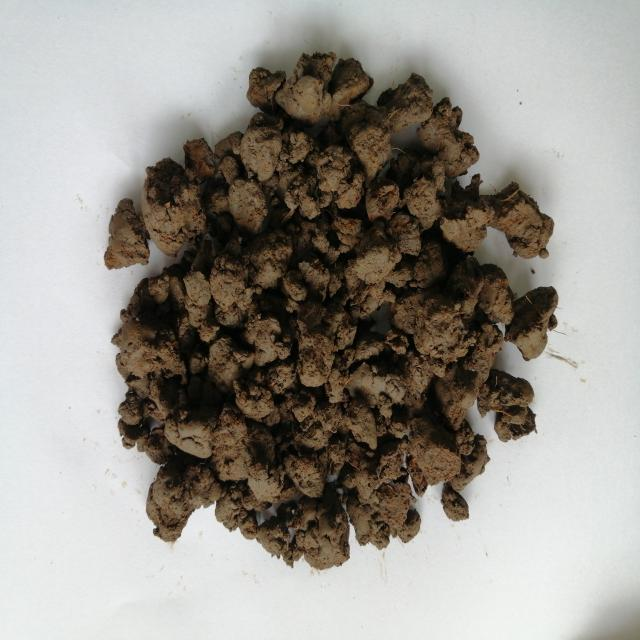soil: (150, 171, 522, 537)
